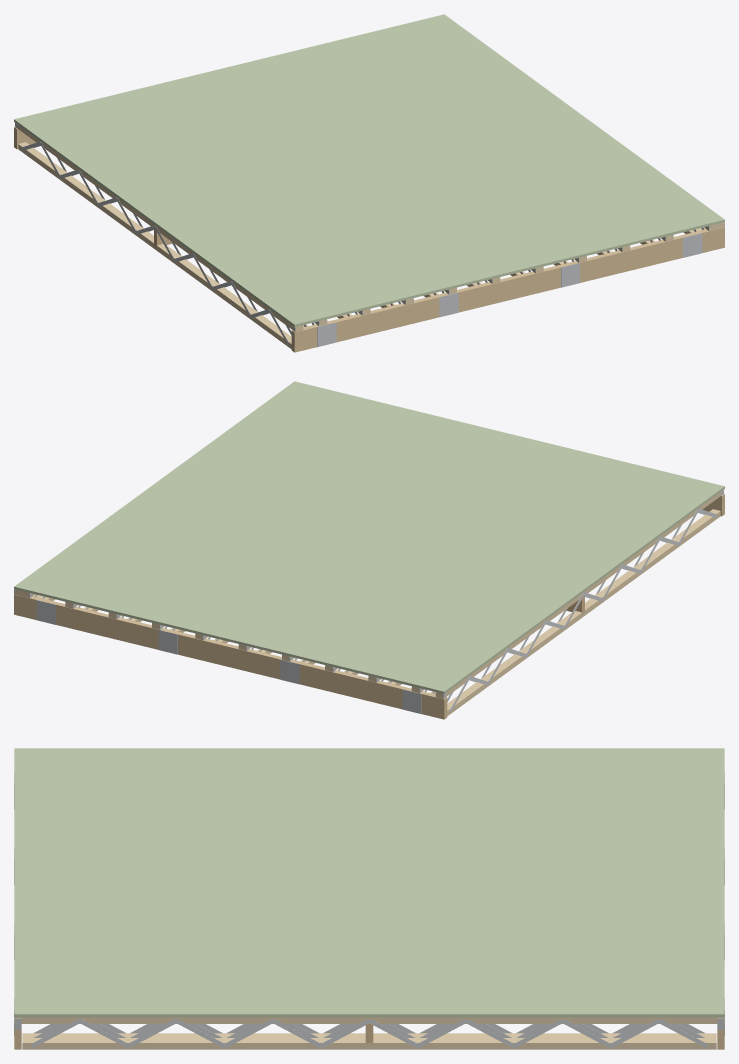
The model's file is stage-3.glb.
3 views of the same model, one above another, from view 1: azimuth 30°, elevation 25°; view 2: azimuth 150°, elevation 25°; view 3: azimuth 270°, elevation 25° (orthographic). The views are drawn at different scales.
Visible parts, largest first — view 1: Geom3D (×5); view 2: Geom3D (×5); view 3: Geom3D (×3).
Boxes of the visible parts, x1,y1,x2,y2 form: Geom3D (×5): (14, 14, 724, 352); Geom3D (×5): (14, 381, 724, 719); Geom3D (×3): (14, 748, 724, 1049).
Bounding box in the file's own units: 3.98 × 0.2469 × 4.49.
